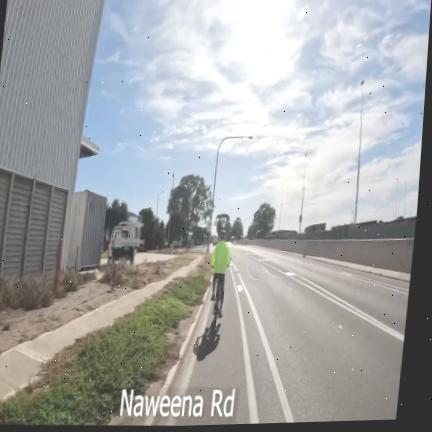Bike_Lane: (157, 273, 251, 426)
